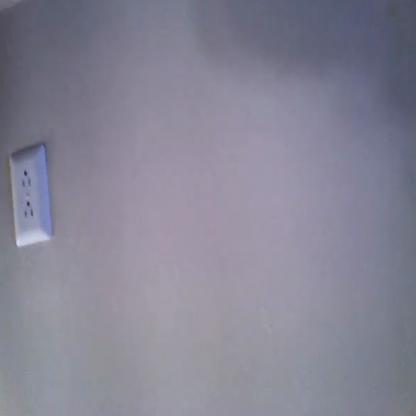OUTLET: (10, 144, 48, 246)
